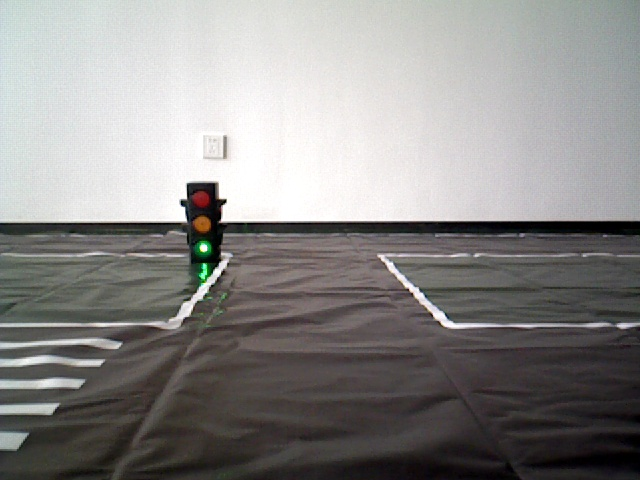green: (191, 184, 216, 256)
